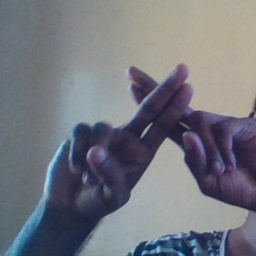F: (102, 57, 232, 180)
